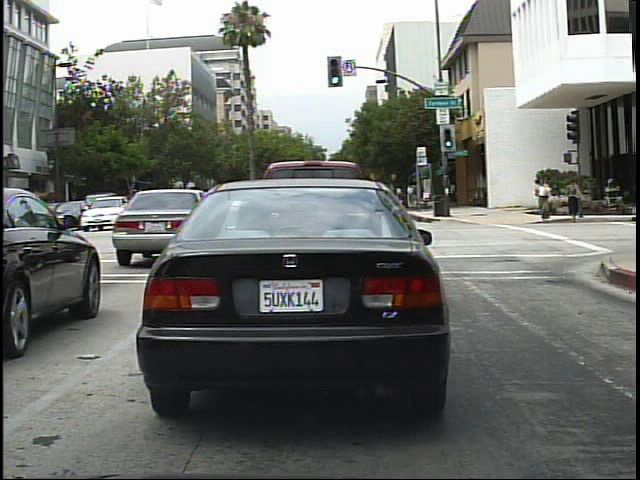person: (533, 173, 558, 227), (562, 175, 587, 225), (402, 180, 419, 212)
